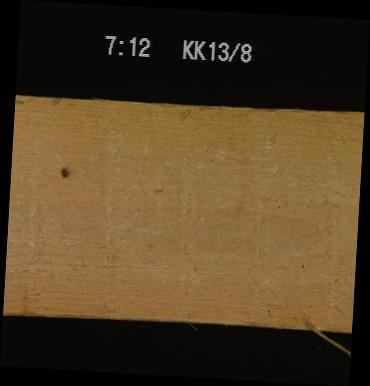small_knot: (58, 164, 69, 180)
